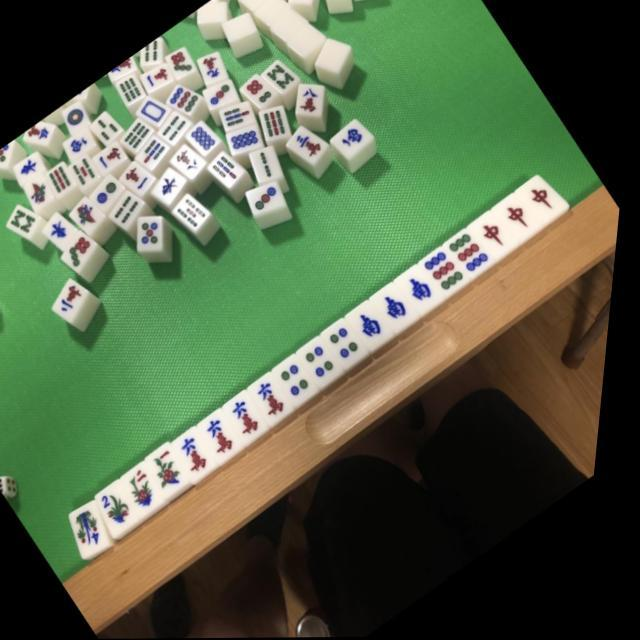bf2: (101, 482, 152, 533)
bf4: (66, 499, 128, 560)
bs1: (149, 443, 205, 498)
bs2: (127, 464, 179, 516)
hdr: (498, 194, 546, 242), (475, 212, 523, 259), (524, 176, 568, 222)
hws: (374, 282, 426, 333), (350, 300, 400, 352), (400, 266, 450, 314)
sc6: (228, 391, 280, 442), (203, 410, 254, 461), (254, 373, 304, 422), (180, 430, 228, 478)
sd4: (328, 323, 373, 369), (305, 340, 350, 386), (278, 358, 324, 402)
sd9: (422, 246, 474, 296), (448, 228, 499, 278)
